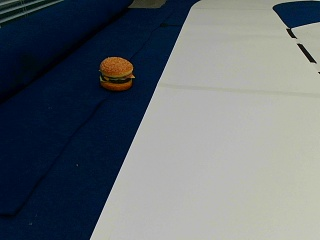burger: (98, 55, 134, 90)
